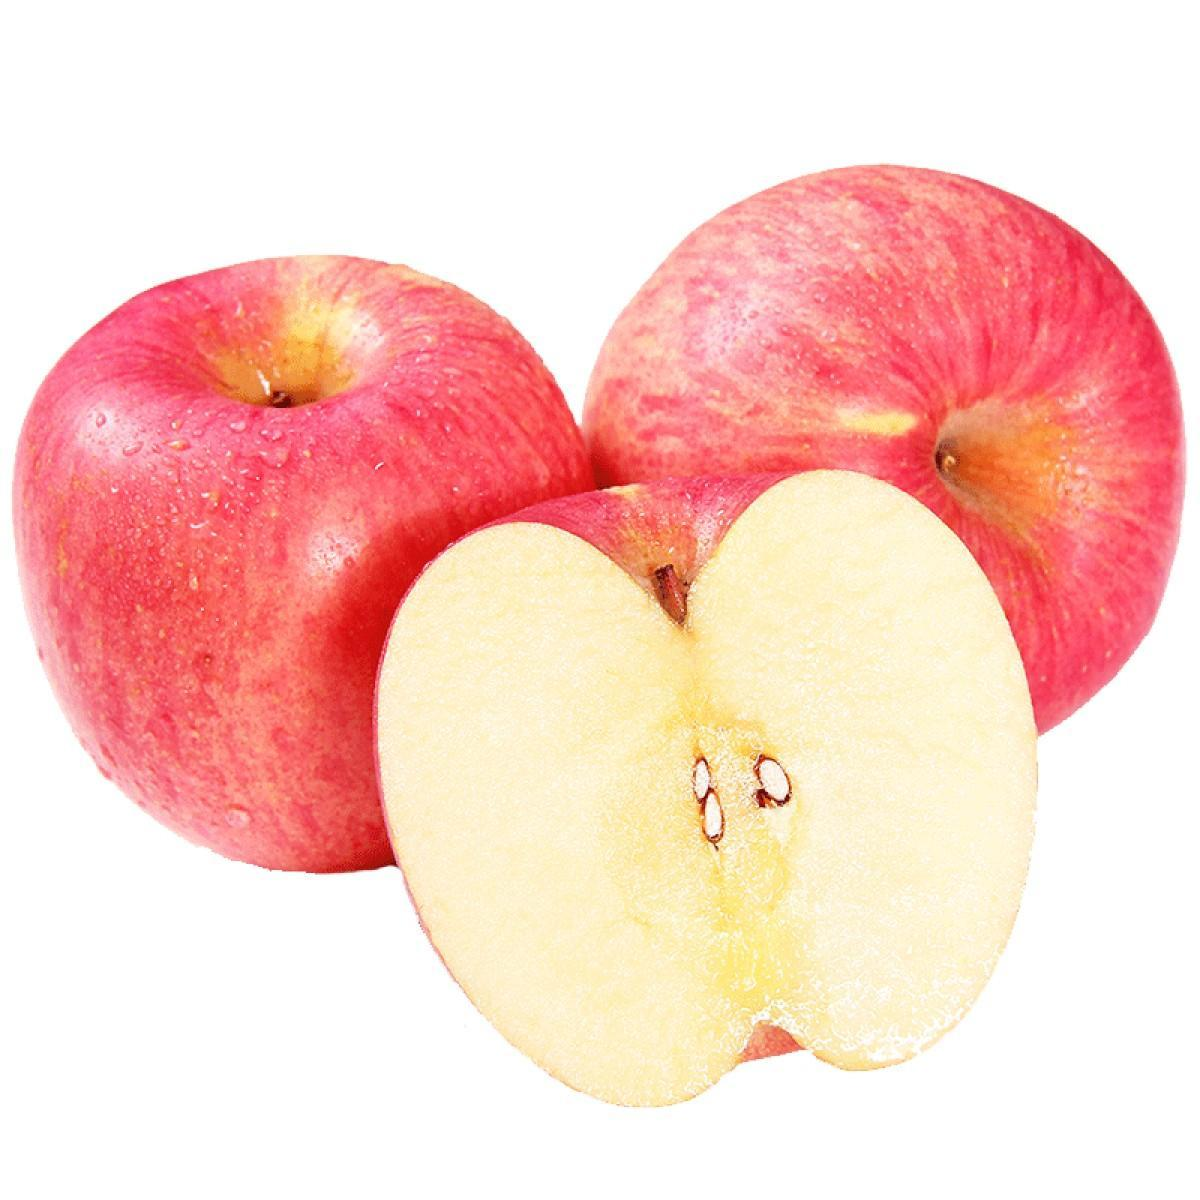apple: (375, 470, 1048, 1113), (12, 258, 588, 876), (581, 165, 1188, 730)
